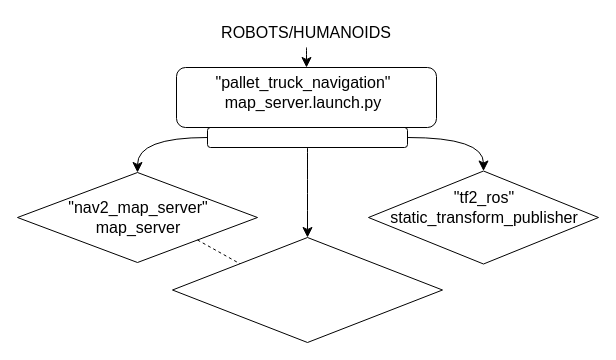
Image size: 616x360. Some labels were removed from this diagram. Each missing label, with the box of its shape:
"nav2_lifecycle_manager" lifecycle_manager: (172, 236, 442, 342)
for each robot: (206, 126, 408, 148)
